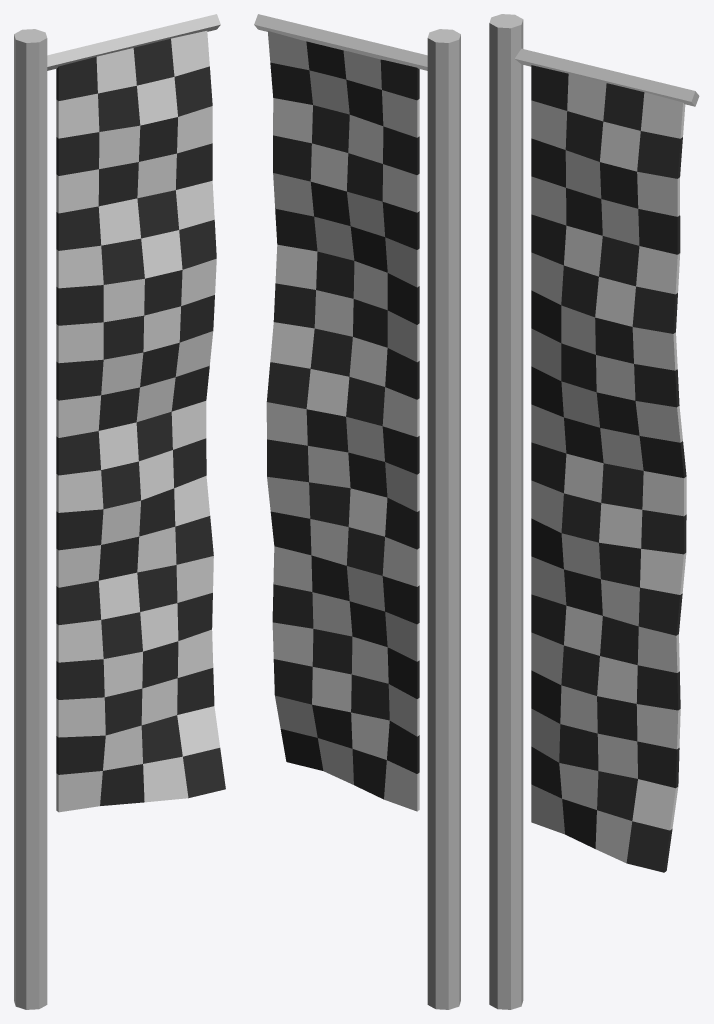
File: Flag_free.fbx
The picture shows the model from 3 angles, left to right: view 1: azimuth 30°, elevation 25°; view 2: azimuth 150°, elevation 25°; view 3: azimuth 330°, elevation 25°; orthographic projection.
Visible parts, largest first — view 1: Flag_free; view 2: Flag_free; view 3: Flag_free.
Part boxes in pixels (left/top/right/bottom): Flag_free: left=14, top=14, right=225, bottom=1009; Flag_free: left=254, top=14, right=460, bottom=1009; Flag_free: left=489, top=14, right=699, bottom=1009.
Bounding box in the file's own units: 135 × 620 × 33.13.
